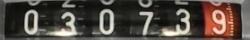digits: (210, 9, 226, 34), (98, 9, 114, 33), (175, 8, 190, 33), (60, 11, 77, 32), (24, 9, 38, 34), (138, 11, 153, 34)
